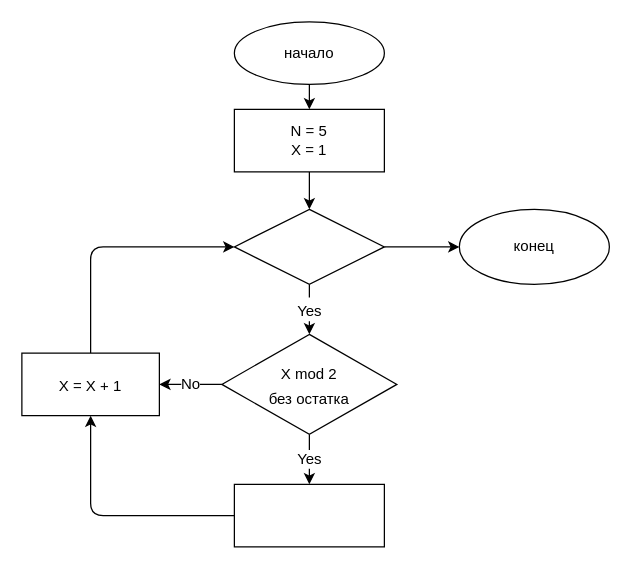
Image size: 631x569. Some labels were removed from this diagram. Each missing label, with the centre of its shape:
"X - четное число" goes at (308,515).
"X ≤ N" goes at (308,246).
